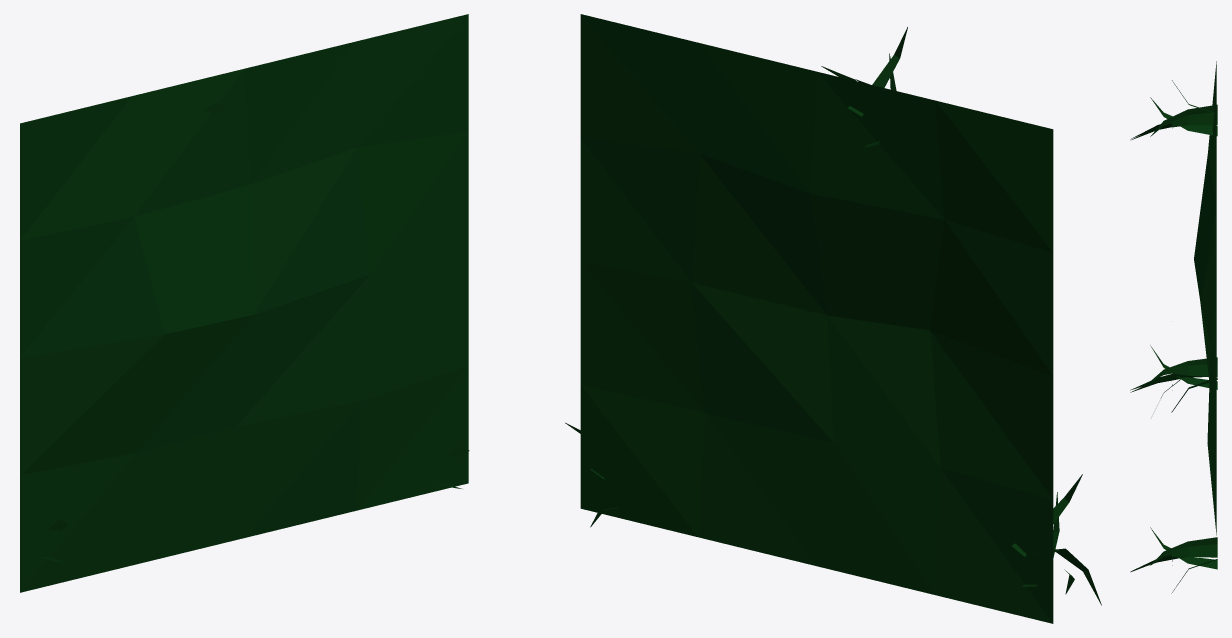
File: GrassTile003.obj
3 renders of one model, left to right at view 1: azimuth 30°, elevation 25°; view 2: azimuth 150°, elevation 25°; view 3: azimuth 270°, elevation 25°, orthographic. The views are drawn at different scales.
Visible parts, largest first — view 1: Plane001.004; view 2: Plane001.004; view 3: Plane001.004, Plane031.002, Plane021.002, Plane011.002, Plane015.002, Plane025.002, Plane022.002, Plane012.002, Plane006.002, Plane003.002, Plane004.002, Plane023.002.
Part boxes in pixels (x1,y1,x2,y2): Plane001.004: (20, 14, 468, 592); Plane001.004: (580, 14, 1053, 623); Plane001.004: (1194, 61, 1216, 535); Plane031.002: (1171, 544, 1217, 557); Plane021.002: (1171, 112, 1217, 127); Plane011.002: (1171, 363, 1217, 377); Plane015.002: (1150, 104, 1217, 136); Plane025.002: (1150, 537, 1217, 565); Plane022.002: (1150, 527, 1217, 569); Plane012.002: (1150, 97, 1217, 136); Plane006.002: (1150, 357, 1217, 381); Plane003.002: (1150, 345, 1217, 389); Plane004.002: (1130, 366, 1217, 390); Plane023.002: (1130, 547, 1217, 571).
Size of the model in its own units: 36.35 by 37.41 by 6.54.
